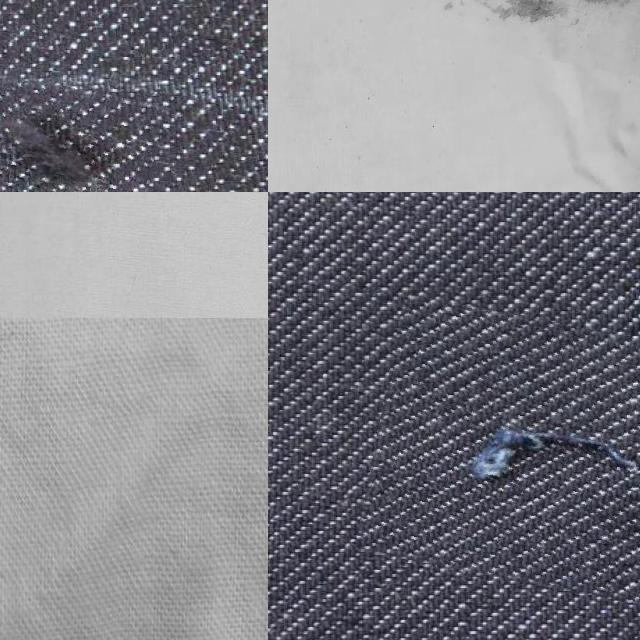Thread_other: (419, 0, 640, 70)
stains: (364, 308, 640, 598), (0, 79, 157, 192)
